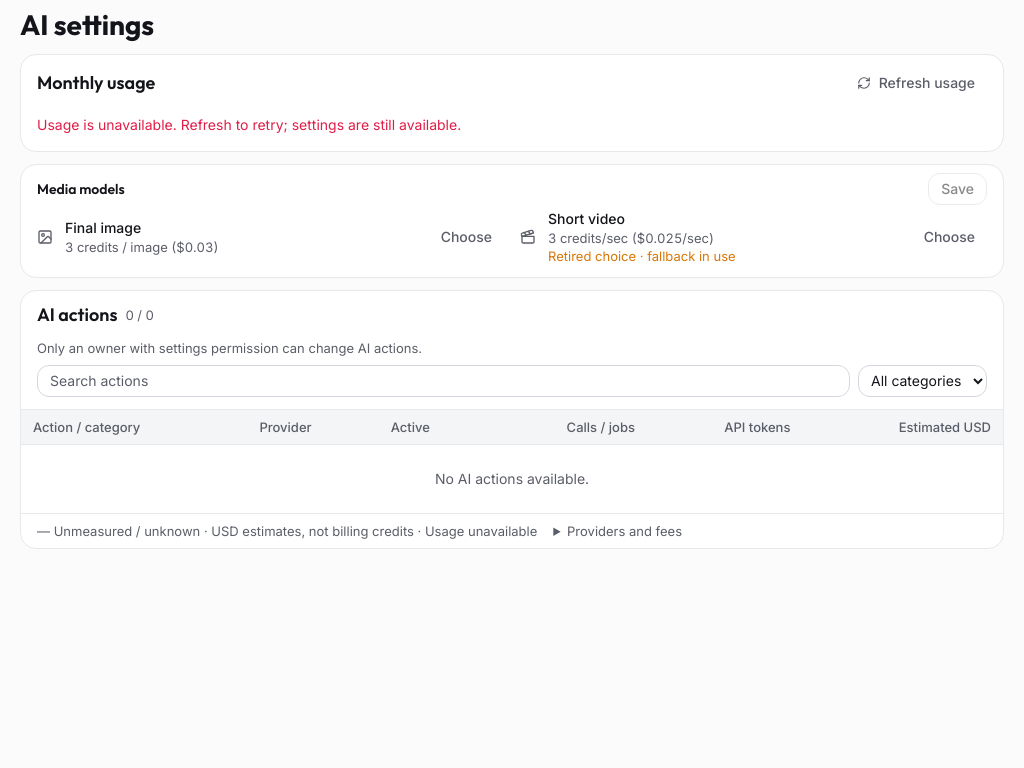
Test: AiModelsPage › says what actually runs when the stored choice has left the catalogue
The image size is (1024, 768).
Click the button with aria-label "Choose video model" at (949, 237), box [912,221,987,253]
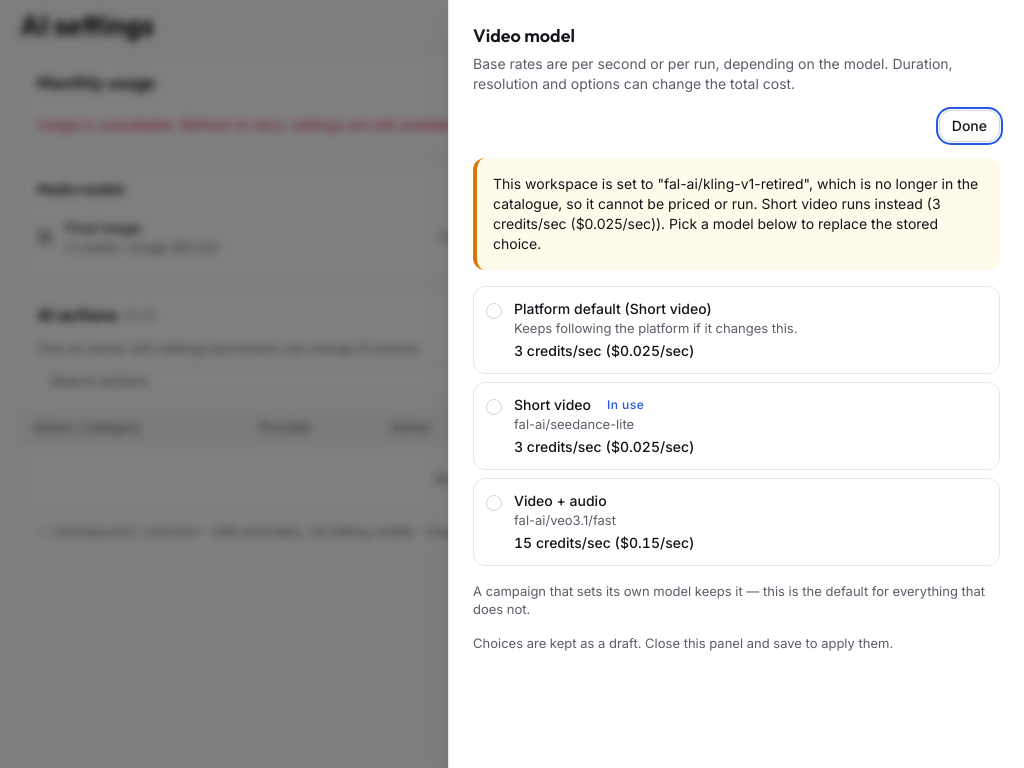
Expected: the text "Short video" is shown, [548,210,625,227]
Expected: the dialog "Video model" is shown, [448,0,1023,767]
Expected: the text "Short video runs instead (3 credits/sec ($0.025/sec))" is shown, [493,175,978,252]
